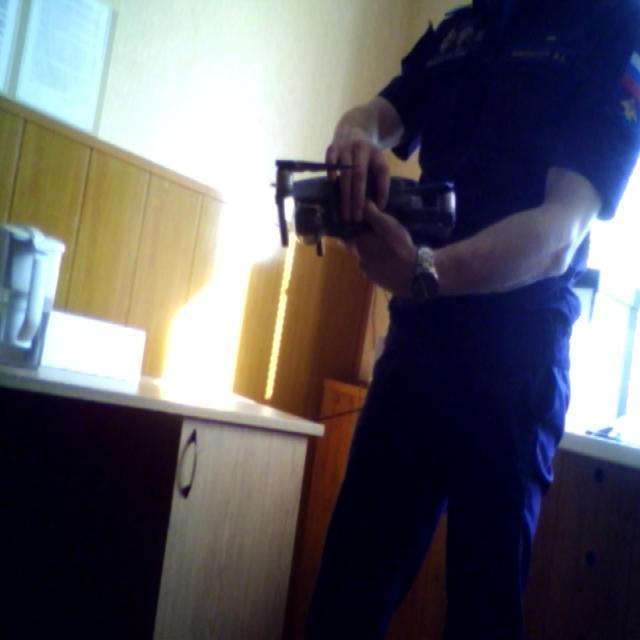drone: (255, 131, 464, 285)
